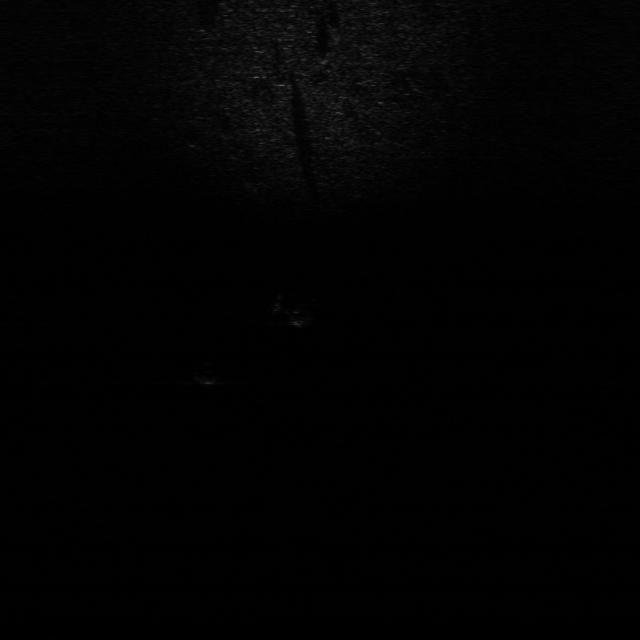ball: (187, 360, 226, 388)
human body: (272, 294, 322, 330)
